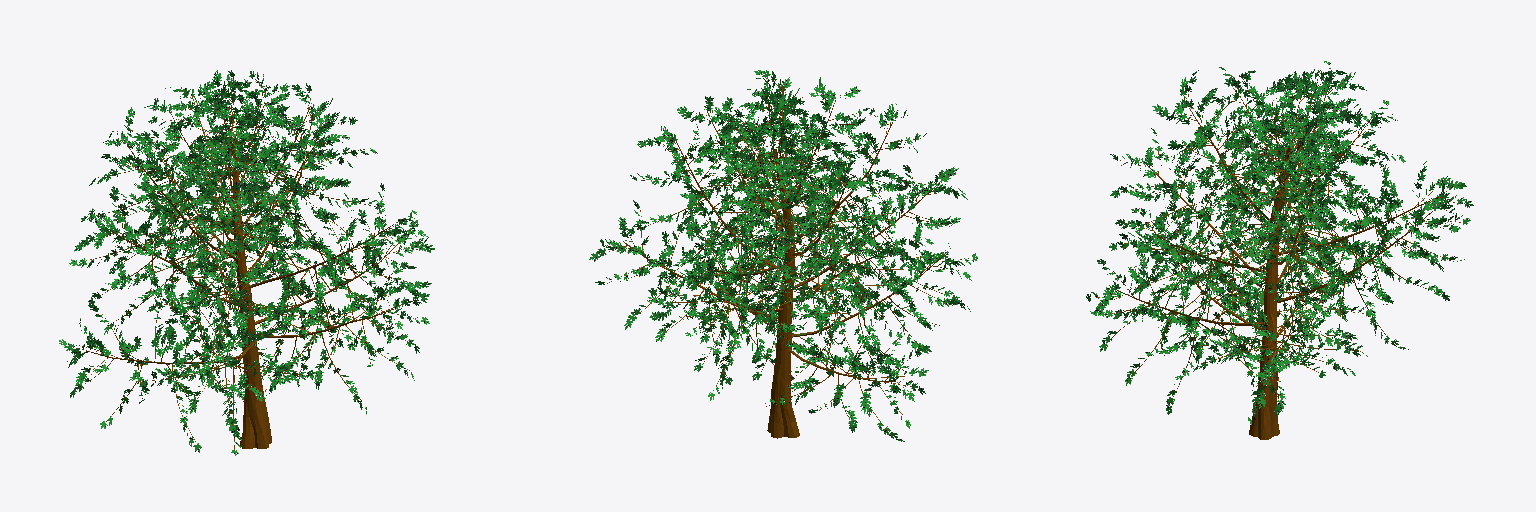
3 renders of one model, left to right at view 1: azimuth 30°, elevation 25°; view 2: azimuth 150°, elevation 25°; view 3: azimuth 270°, elevation 25°, orthographic.
Size of the model in its own units: 457 by 451 by 442.
4 materials, 2 textured.